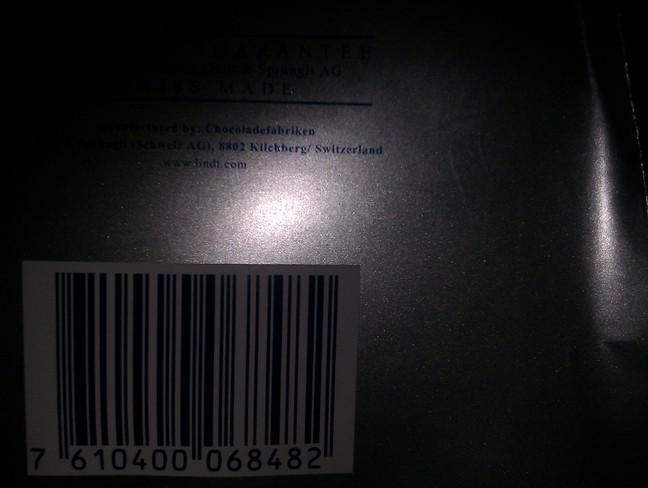Barkod: (25, 260, 358, 476)
